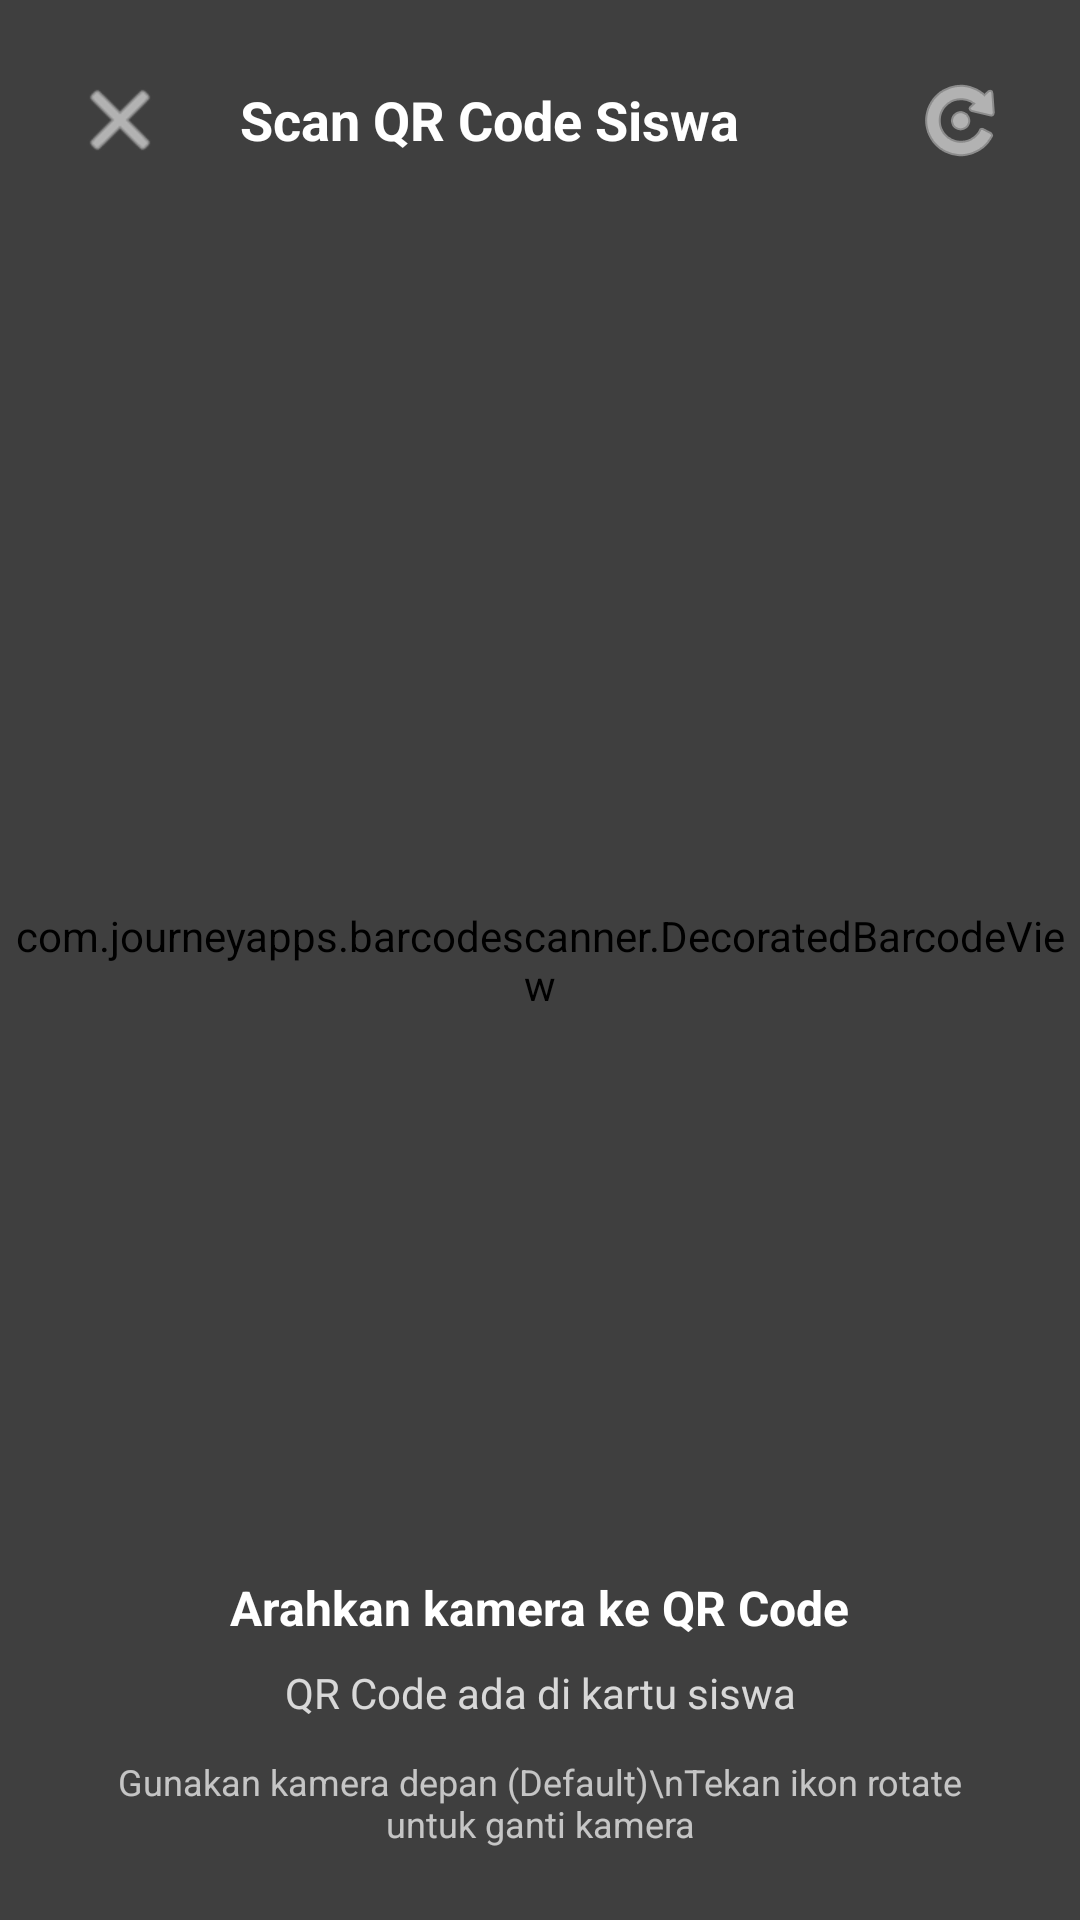

Screen size 1080 x 1920. Icon name, then its box in pixels as region(x1, y1, x2, y2):
Switch Camera: region(925, 85, 995, 156)
